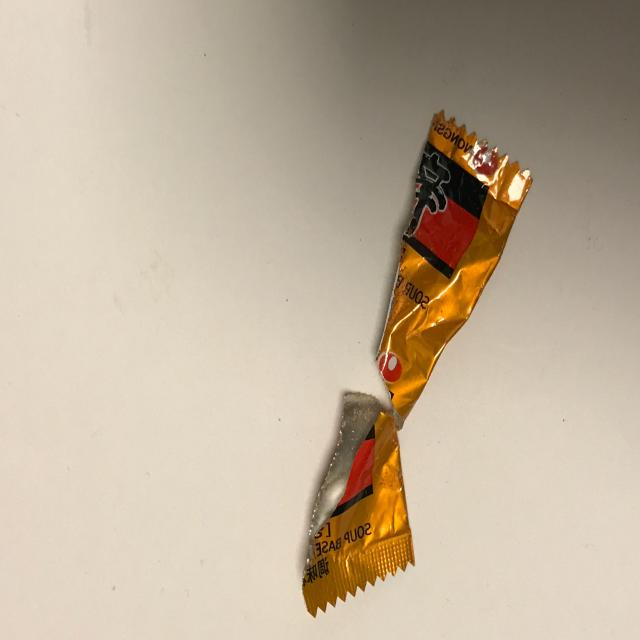Trash: (260, 114, 564, 640)
